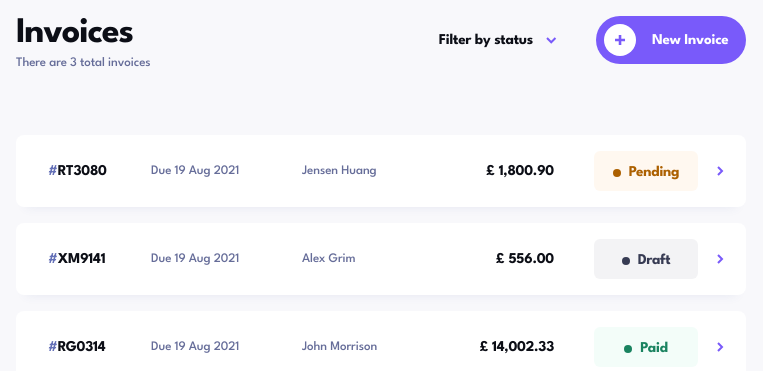
it: filtering › narrows the list to the chosen status
The width and height of the screenshot is (763, 371).
Click the button "Filter by status".
click(498, 40)  # box [439, 32, 557, 48]
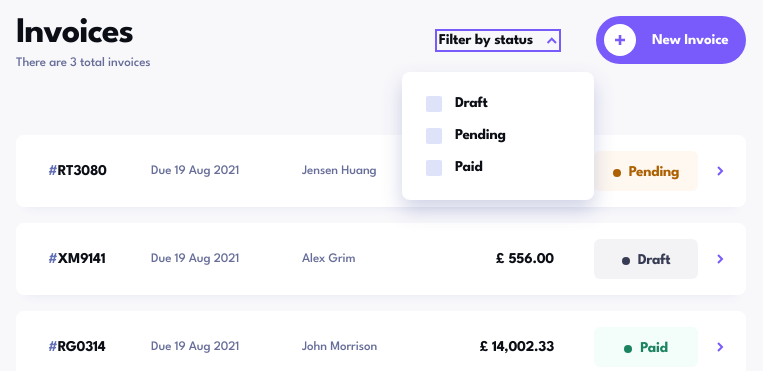
Click the checkbox labelled "Draft".
click(457, 104)  # box [426, 96, 488, 112]
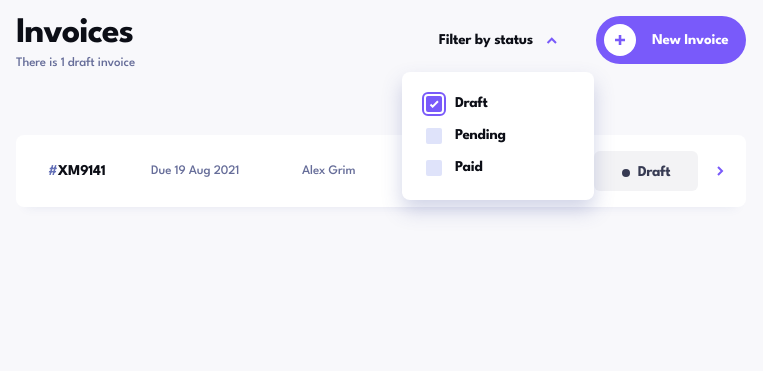
Expected: the text "XM9141" is shown, [58, 164, 105, 178]
Expected: the number of list items is 1, [16, 135, 746, 207]
Expected: the link "RT3080" is gone
